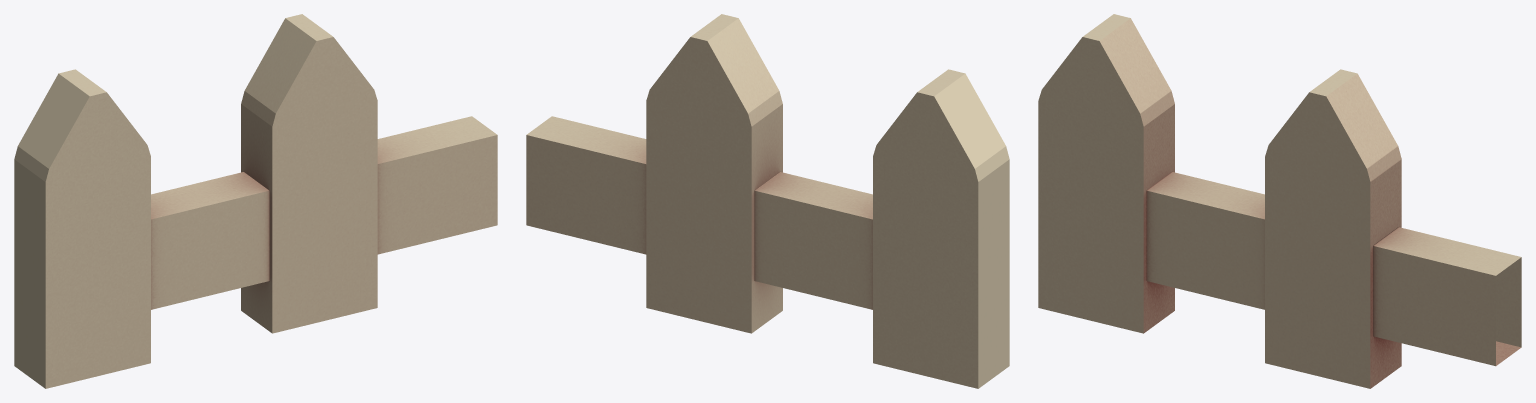
The model's file is Fence.fbx.
3 views of the same model, side by side, from view 1: azimuth 30°, elevation 25°; view 2: azimuth 150°, elevation 25°; view 3: azimuth 330°, elevation 25° (orthographic).
Parts seen in each view (by area): view 1: Cube; view 2: Cube; view 3: Cube.
Boxes of the visible parts, <box> form: Cube: <box>14,14,497,388</box>; Cube: <box>526,14,1009,388</box>; Cube: <box>1038,14,1521,388</box>.
Bounding box in the file's own units: 210 × 25.07 × 124.
